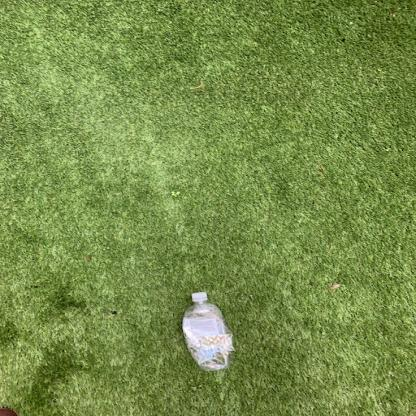trash: (181, 285, 232, 367)
